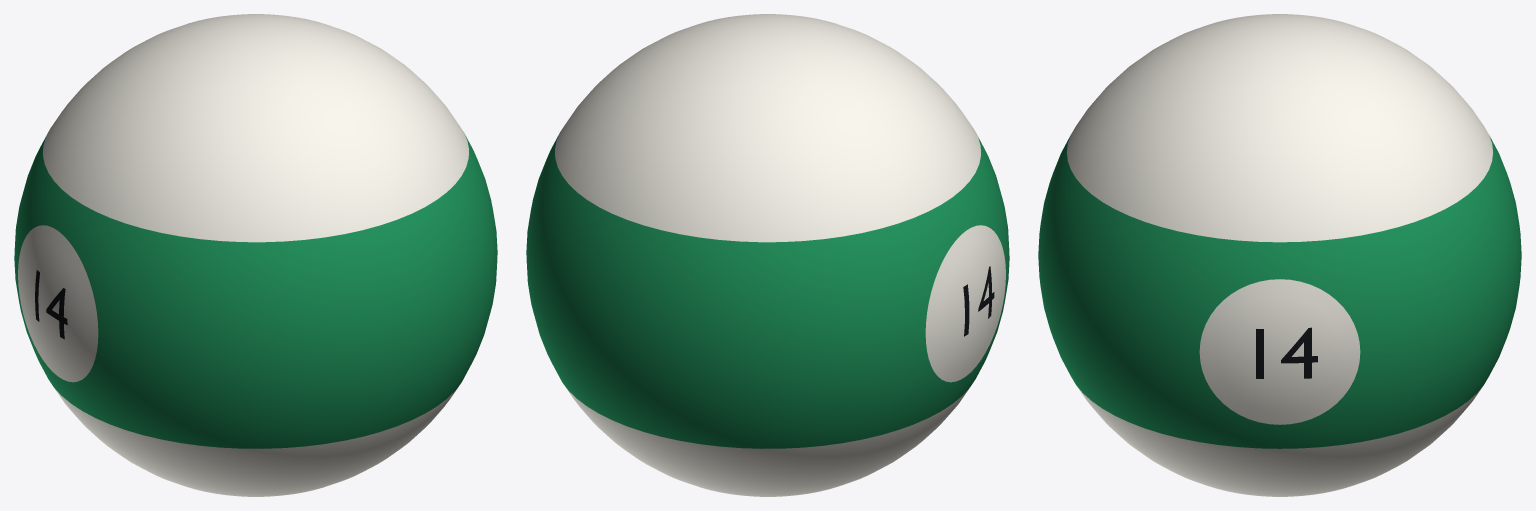
The model's file is ball_14.glb.
3 renders of one model, left to right at view 1: azimuth 30°, elevation 25°; view 2: azimuth 150°, elevation 25°; view 3: azimuth 270°, elevation 25°, orthographic.
Visible parts, largest first — view 1: Ball 14 | resin, Ball 14 | number medallion | opposite, Ball 14 | numeral 14 | opposite; view 2: Ball 14 | resin, Ball 14 | number medallion | opposite, Ball 14 | numeral 14 | opposite; view 3: Ball 14 | resin, Ball 14 | number medallion, Ball 14 | numeral 14.
Boxes of the visible parts, x1,y1,x2,y2 form: Ball 14 | resin: [14, 14, 497, 496]; Ball 14 | number medallion | opposite: [18, 225, 98, 382]; Ball 14 | numeral 14 | opposite: [35, 270, 67, 339]; Ball 14 | resin: [526, 14, 1009, 496]; Ball 14 | number medallion | opposite: [925, 225, 1005, 382]; Ball 14 | numeral 14 | opposite: [963, 266, 994, 336]; Ball 14 | resin: [1038, 14, 1521, 496]; Ball 14 | number medallion: [1199, 279, 1360, 424]; Ball 14 | numeral 14: [1256, 327, 1317, 378].
Size of the model in its own units: 0.0573 by 0.0571 by 0.0571.
